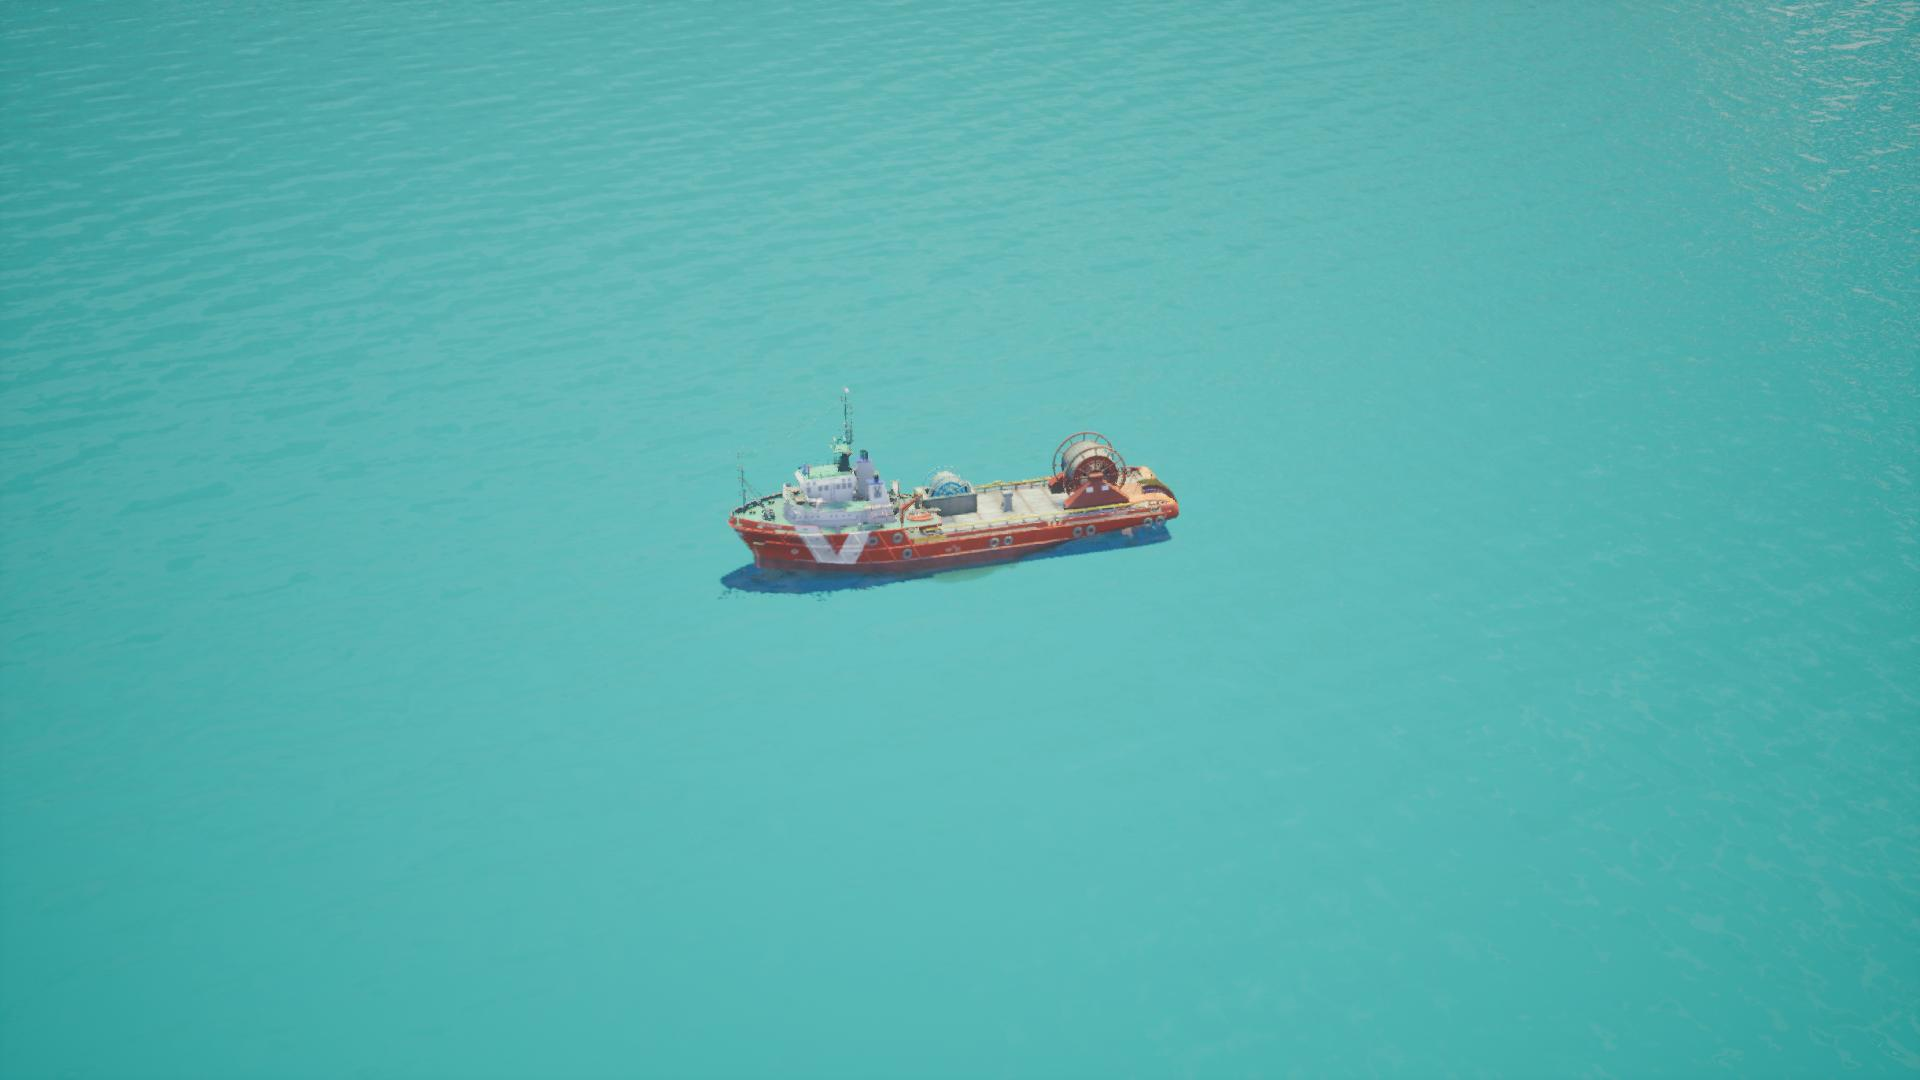Tug Boat: (725, 392, 1176, 593)
